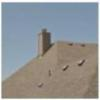chimneys: (38, 26, 51, 56)
